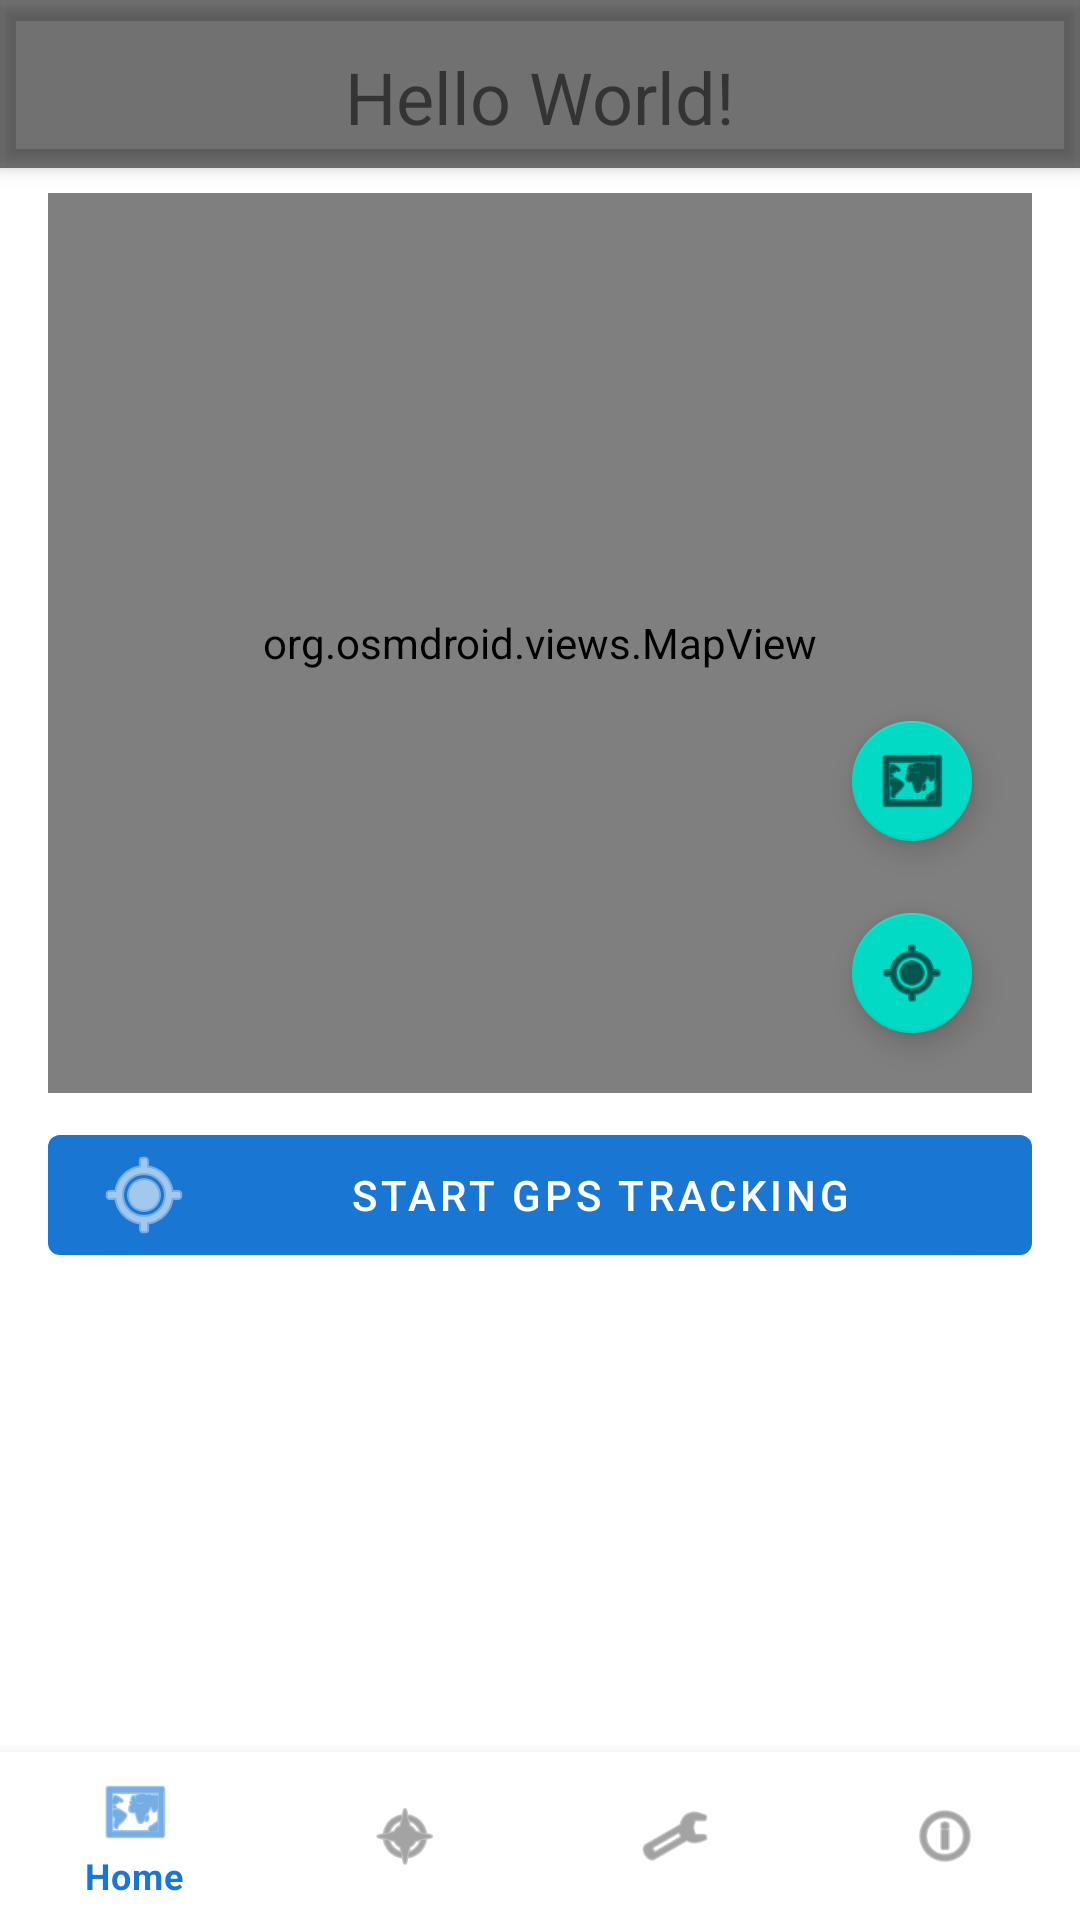

Where icons sit on this 1080 x 1920 app screen, as (x1, y1, x2, y2):
Map layers: (852, 721, 972, 841)
My location: (852, 913, 972, 1033)
